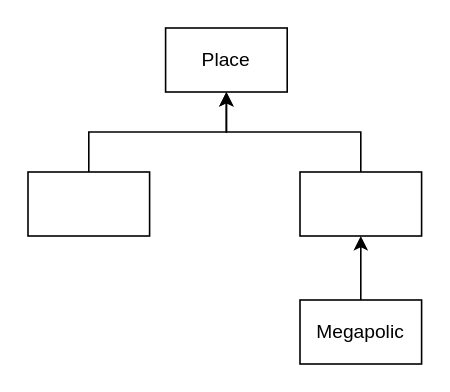
The diagram is 450 pixels wide and 392 high, and some of its shapes have lost their labels. Each missing label, with the centre of its shape:
City: the point at 360,203
Region: the point at 88,203
